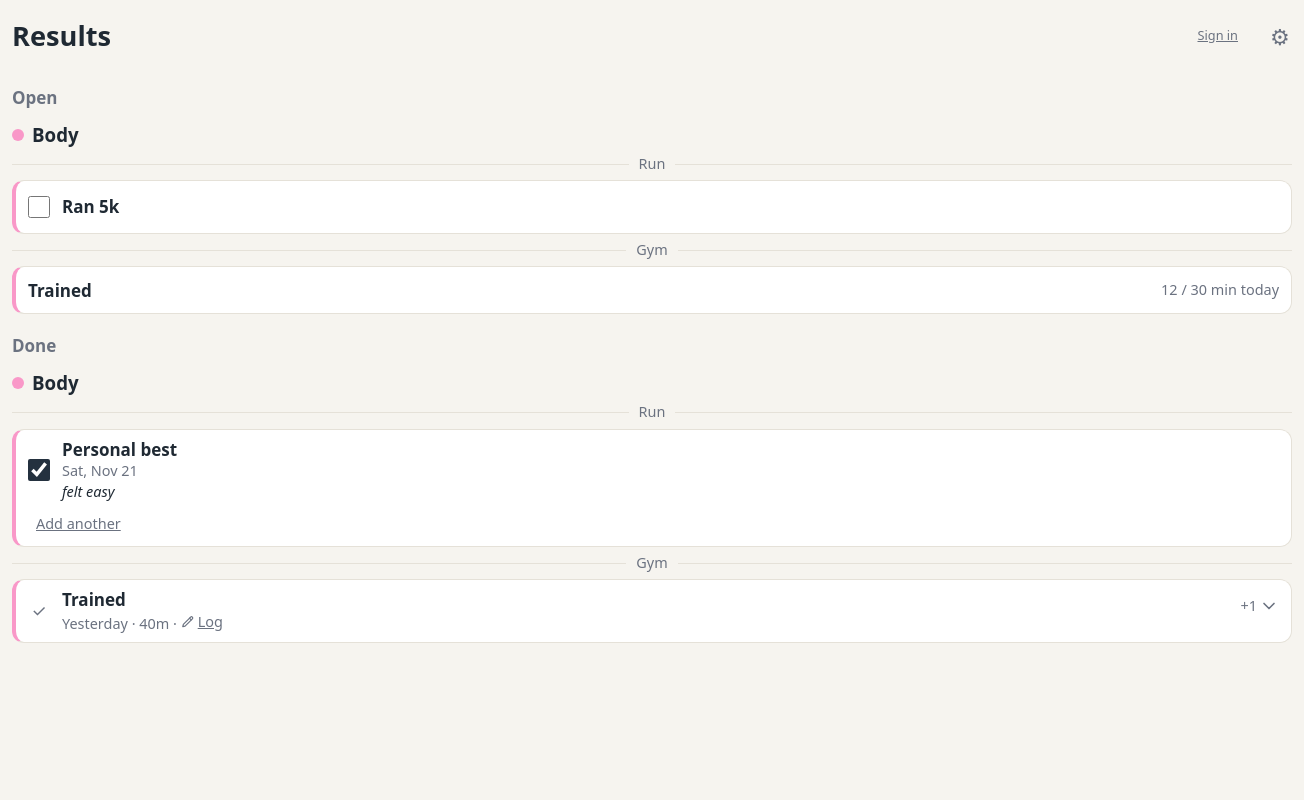
Test: Results › screen › drops entries 8 days after their day, manual and automatic
Click the button with class "more-toggle": (1260, 606) [1232,584,1287,628]
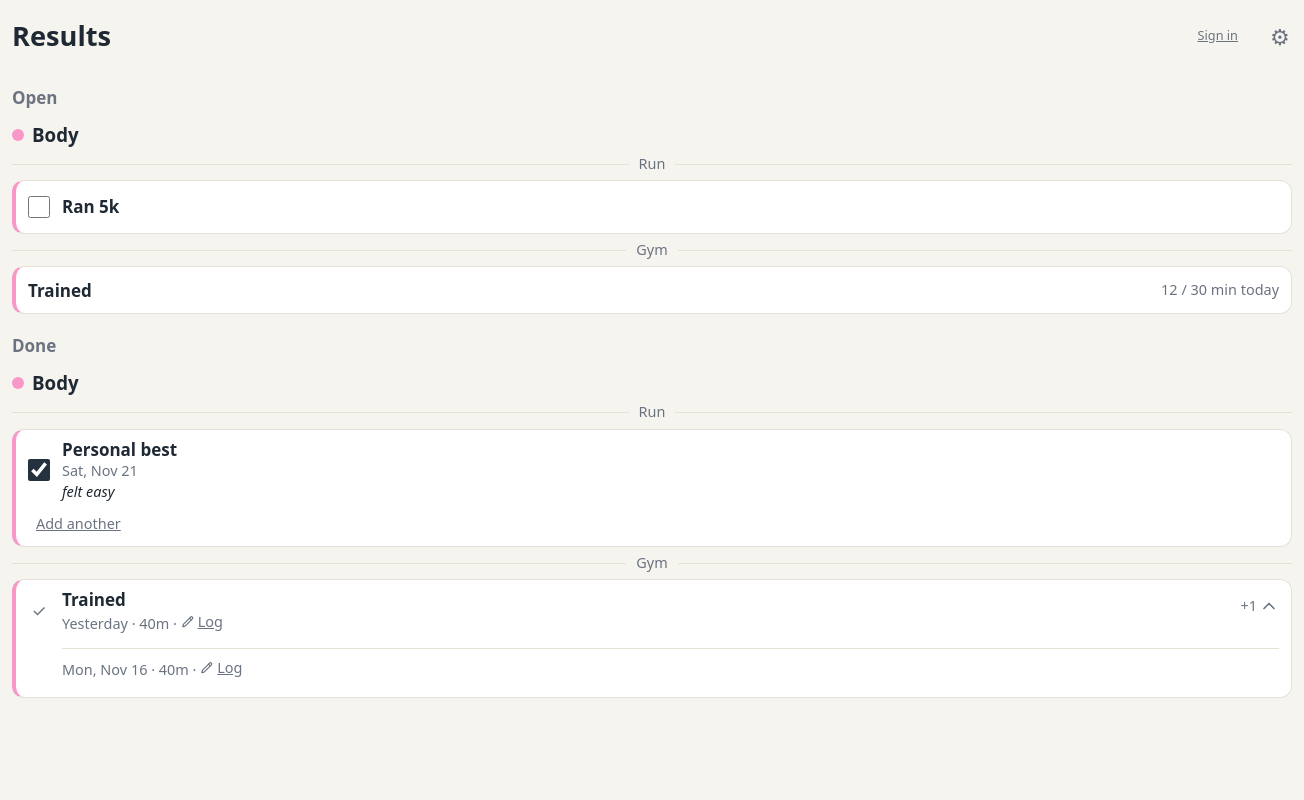
Check: the button with class "more-toggle" is expanded, box [1232,584,1287,628]
